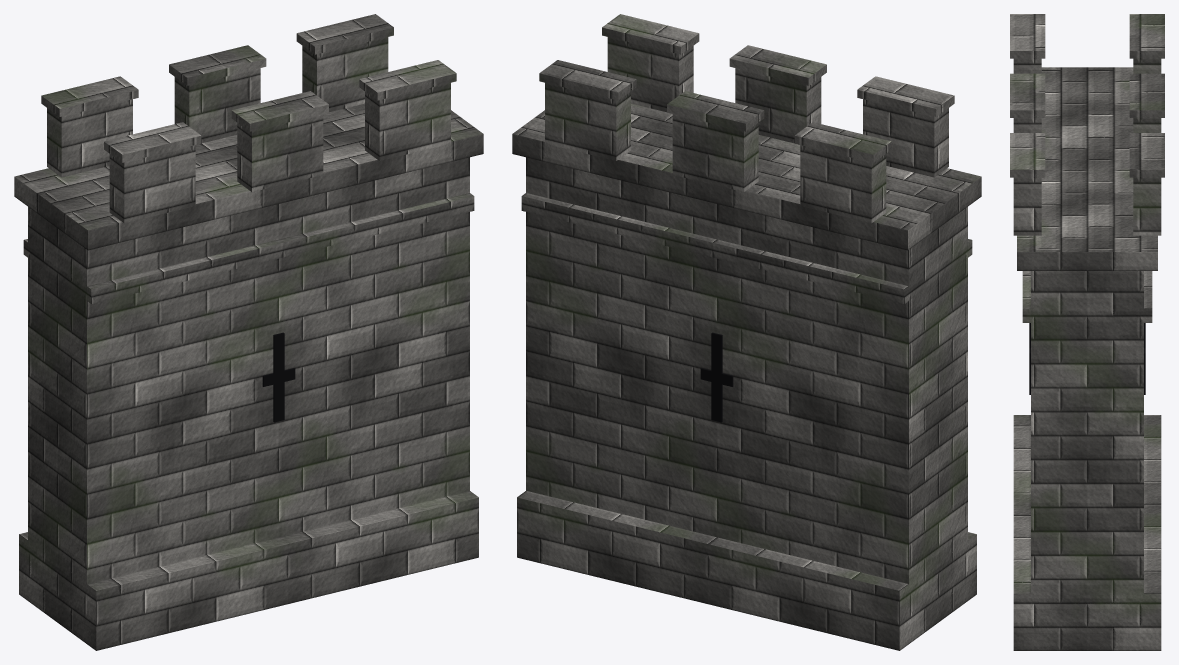
File: wall_6.obj
3 renders of one model, left to right at view 1: azimuth 30°, elevation 25°; view 2: azimuth 150°, elevation 25°; view 3: azimuth 270°, elevation 25°, orthographic. The views are drawn at different scales.
Bounding box in the file's own units: 6.2 × 7.36 × 2.2.
2 materials, 1 textured.
